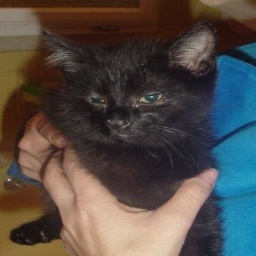cat: (9, 33, 223, 256)
